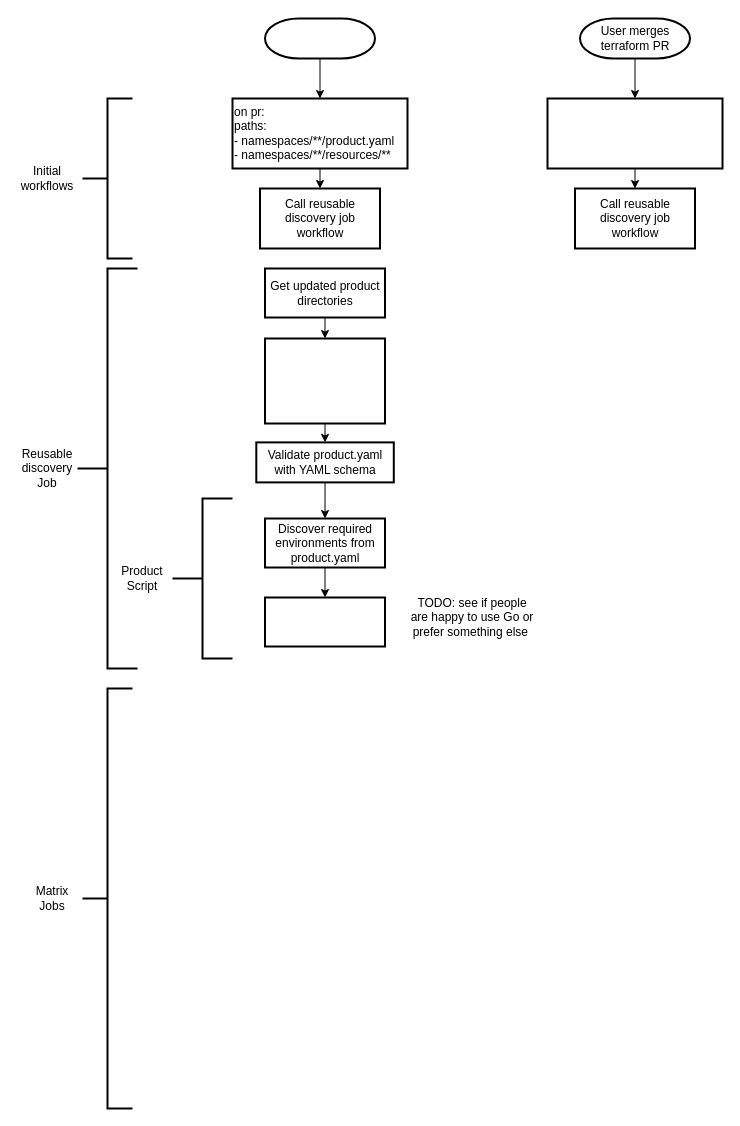
This 740x1126 diagram has some shape labels left out. The shapes that lost their labels are listed below. From the top down, each one's centre as x and y in pixels, then its label:
[320,38]: User raises terraform PR
[634,133]: on push: main paths: - namespaces/**/product.yaml - namespaces/**/resources/**
[325,380]: Prerequisite checks (e.g. single product change, user authorized for product)
[325,621]: Convert required environments object to github shape
